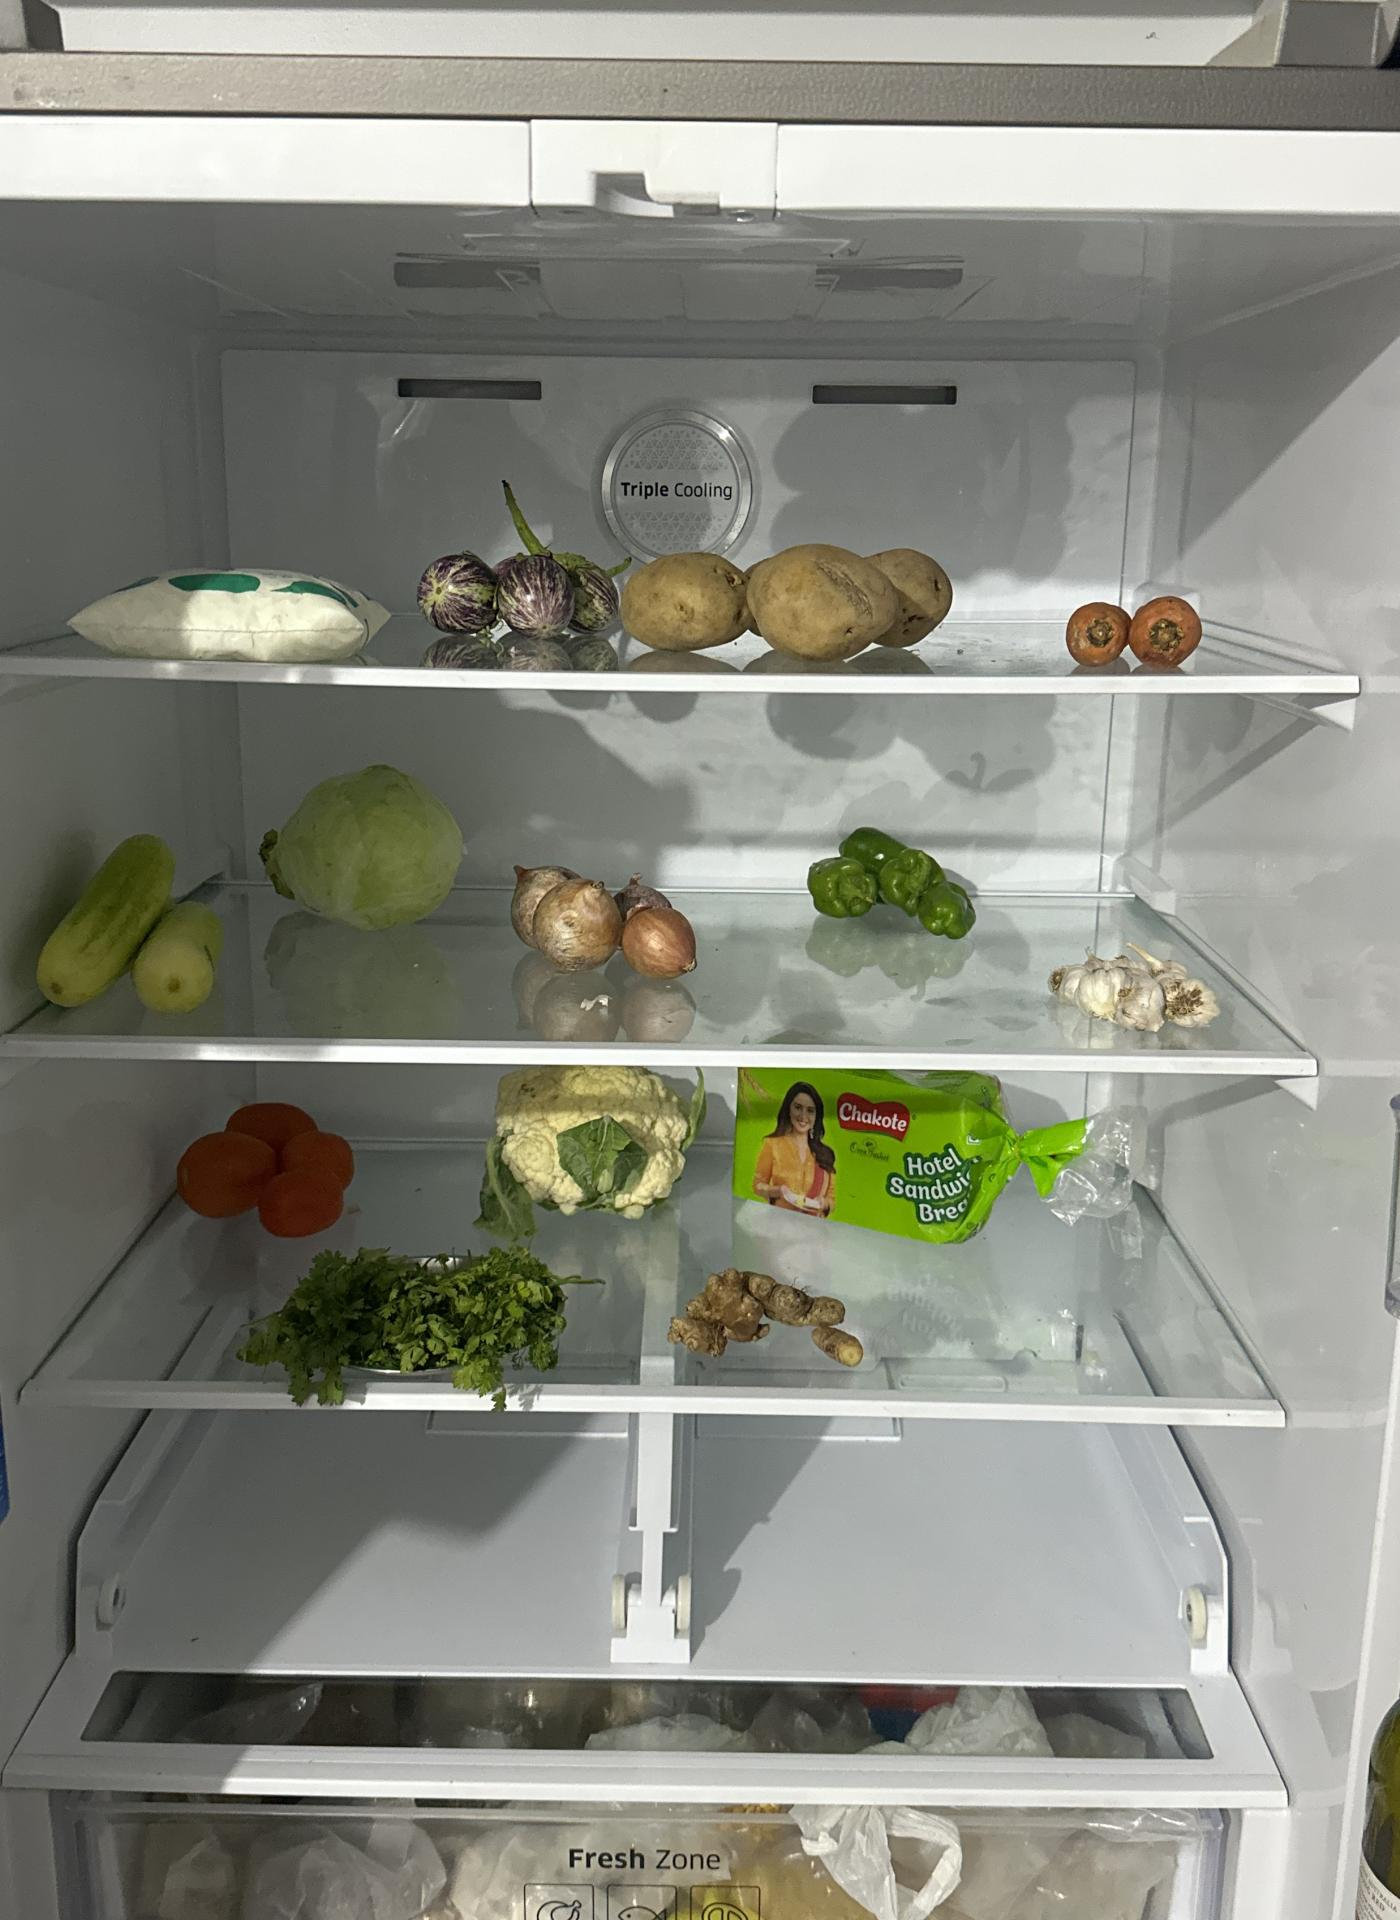bread: (725, 1054, 1015, 1239)
brinjal: (413, 528, 626, 645)
cabbage: (262, 766, 465, 927)
capsicum: (813, 824, 981, 933)
carrots: (1065, 590, 1209, 672)
cauliflower: (483, 1061, 696, 1212)
coriander: (242, 1248, 567, 1394)
cucumber: (31, 827, 216, 1011)
garlic: (1048, 939, 1220, 1035)
ginger: (668, 1263, 865, 1367)
milk: (61, 559, 392, 662)
onion: (513, 860, 698, 969)
potato: (635, 547, 968, 659)
tomato: (171, 1093, 355, 1230)
